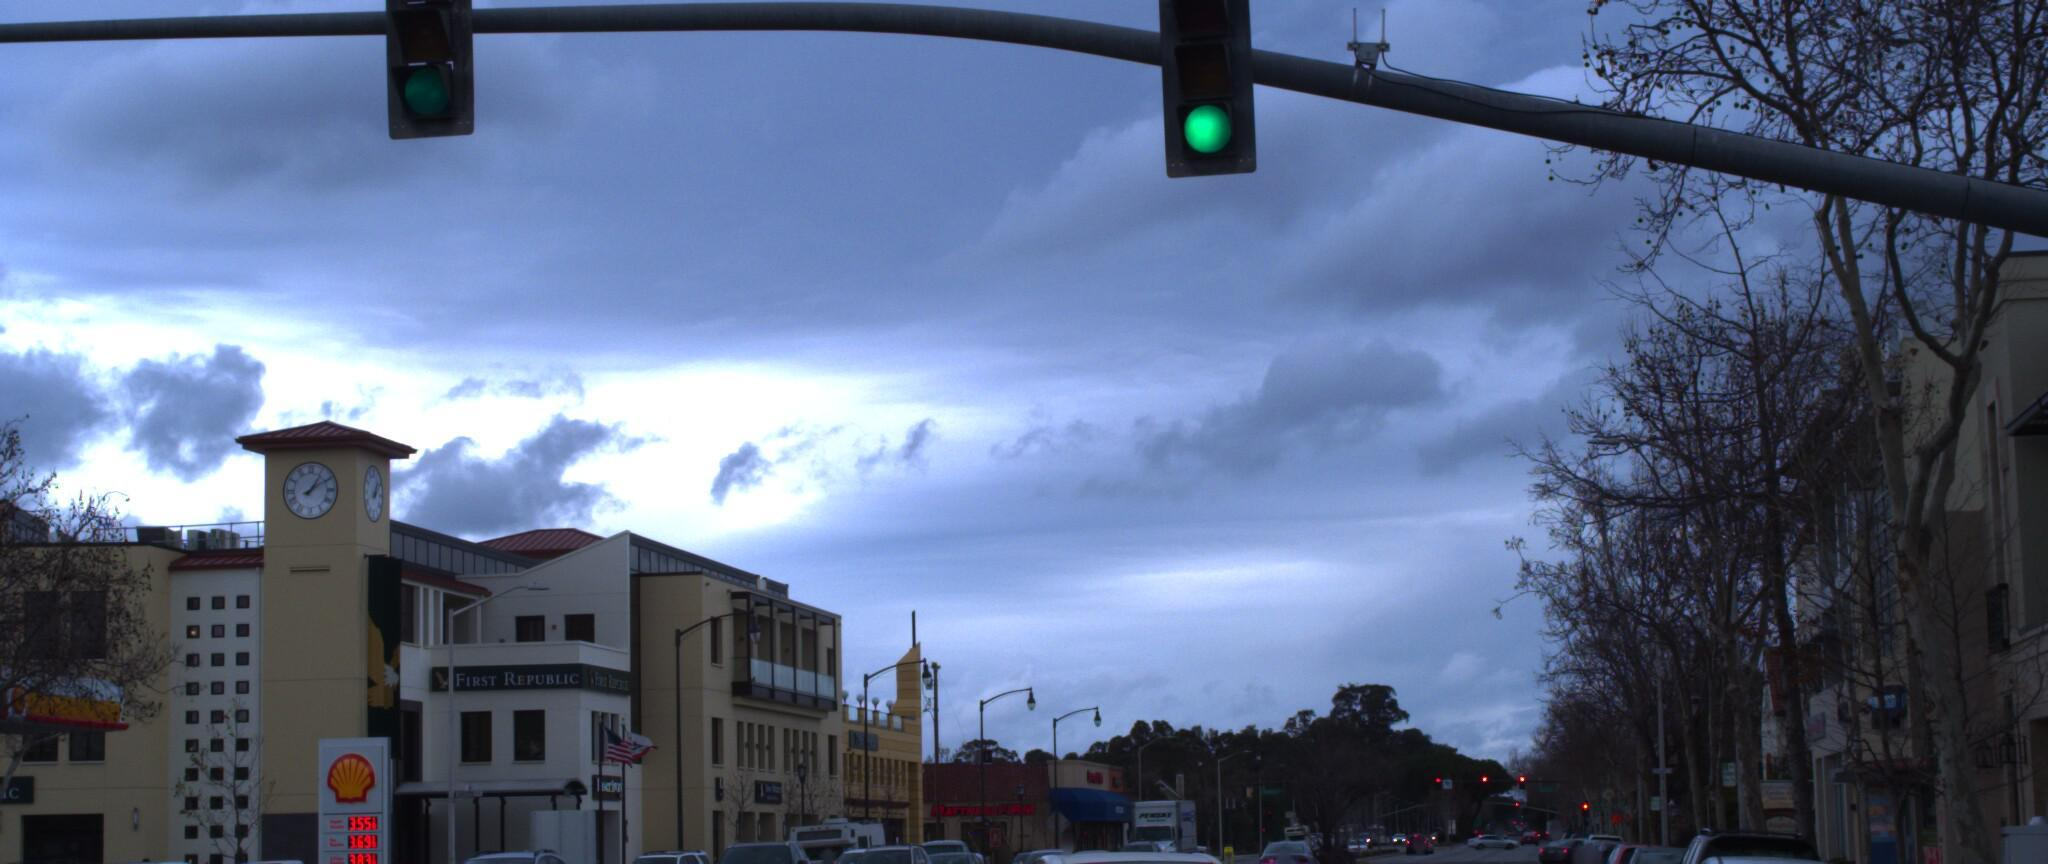car: (947, 821, 1304, 864), (1629, 827, 1842, 864), (1631, 846, 1887, 864), (688, 841, 812, 864), (418, 848, 592, 864), (167, 850, 351, 864), (1597, 847, 1720, 864), (0, 857, 269, 864), (835, 850, 934, 864)
